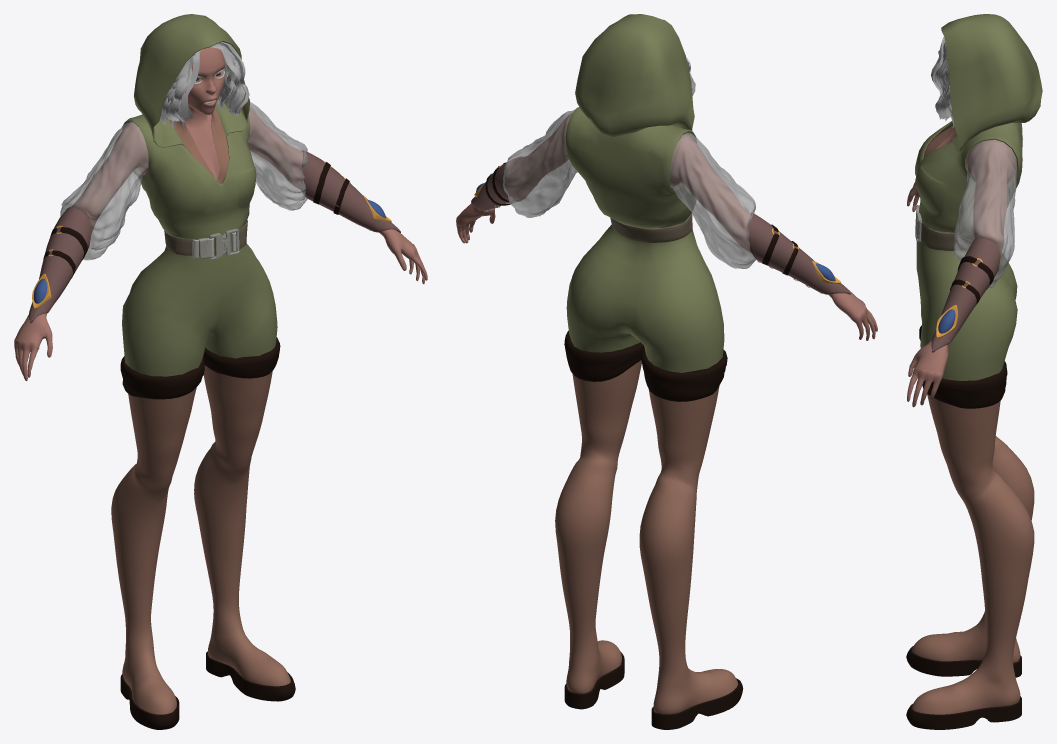
Rendered from siera_UV_04.fbx.
3 views of the same model, side by side, from view 1: azimuth 30°, elevation 25°; view 2: azimuth 150°, elevation 25°; view 3: azimuth 270°, elevation 25° (orthographic). The views are drawn at different scales.
Parts seen in each view (by area): view 1: body_cloth_low, boots_low, body, sleeve_R_low, sleeve_L_low, upper_leg_cloth_low, glove_R_low, glove_L_low, sole_low, belt_low, hair_L_front, hair_R_front (+1 smaller); view 2: body_cloth_low, boots_low, body, sleeve_R_low, sleeve_L_low, upper_leg_cloth_low, glove_R_low, sole_low, belt_low, glove_L_low; view 3: body_cloth_low, boots_low, sleeve_L_low, body, sole_low, glove_L_low, upper_leg_cloth_low, belt_low, hair_L_front, neck_part_low, gemme_L_low, arm_L_ring_top_low.
Boxes of the visible parts, x1,y1,x2,y2 form: body_cloth_low: [122, 14, 277, 376]; boots_low: [111, 365, 290, 714]; body: [14, 47, 427, 380]; sleeve_R_low: [60, 121, 148, 260]; sleeve_L_low: [247, 102, 308, 210]; upper_leg_cloth_low: [120, 337, 280, 399]; glove_R_low: [29, 206, 92, 323]; glove_L_low: [301, 150, 400, 232]; sole_low: [120, 651, 295, 729]; belt_low: [164, 220, 247, 259]; hair_L_front: [211, 41, 249, 115]; hair_R_front: [162, 49, 203, 129]; body_cloth_low: [565, 14, 724, 372]; boots_low: [555, 360, 738, 714]; body: [456, 113, 877, 340]; sleeve_R_low: [669, 133, 756, 268]; sleeve_L_low: [503, 109, 577, 217]; upper_leg_cloth_low: [564, 331, 727, 401]; glove_R_low: [746, 212, 850, 294]; sole_low: [564, 651, 743, 729]; belt_low: [610, 213, 692, 242]; glove_L_low: [471, 156, 531, 210]; body_cloth_low: [915, 14, 1042, 380]; boots_low: [912, 394, 1034, 714]; sleeve_L_low: [954, 139, 1016, 288]; body: [907, 129, 1017, 407]; sole_low: [906, 646, 1021, 729]; glove_L_low: [931, 236, 1001, 352]; upper_leg_cloth_low: [919, 325, 1007, 408]; belt_low: [915, 205, 973, 250]; hair_L_front: [931, 36, 971, 128]; neck_part_low: [923, 125, 957, 157]; gemme_L_low: [938, 309, 955, 333]; arm_L_ring_top_low: [957, 256, 993, 288].
Size of the model in its own units: 108 by 172 by 31.53.
